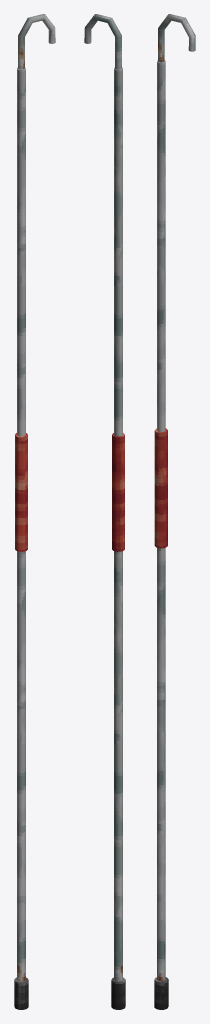
The model's file is gk_hookpole.glb.
The picture shows the model from 3 angles, left to right: view 1: azimuth 30°, elevation 25°; view 2: azimuth 150°, elevation 25°; view 3: azimuth 330°, elevation 25°; orthographic projection.
Parts seen in each view (by area): view 1: mesh; view 2: mesh; view 3: mesh.
Boxes of the visible parts, left/top/right/bottom form: mesh: left=14, top=14, right=55, bottom=1009; mesh: left=84, top=14, right=125, bottom=1009; mesh: left=154, top=14, right=195, bottom=1009.
Bounding box in the file's own units: 0.0911 × 2.16 × 0.0266.
1 material, 1 textured.
